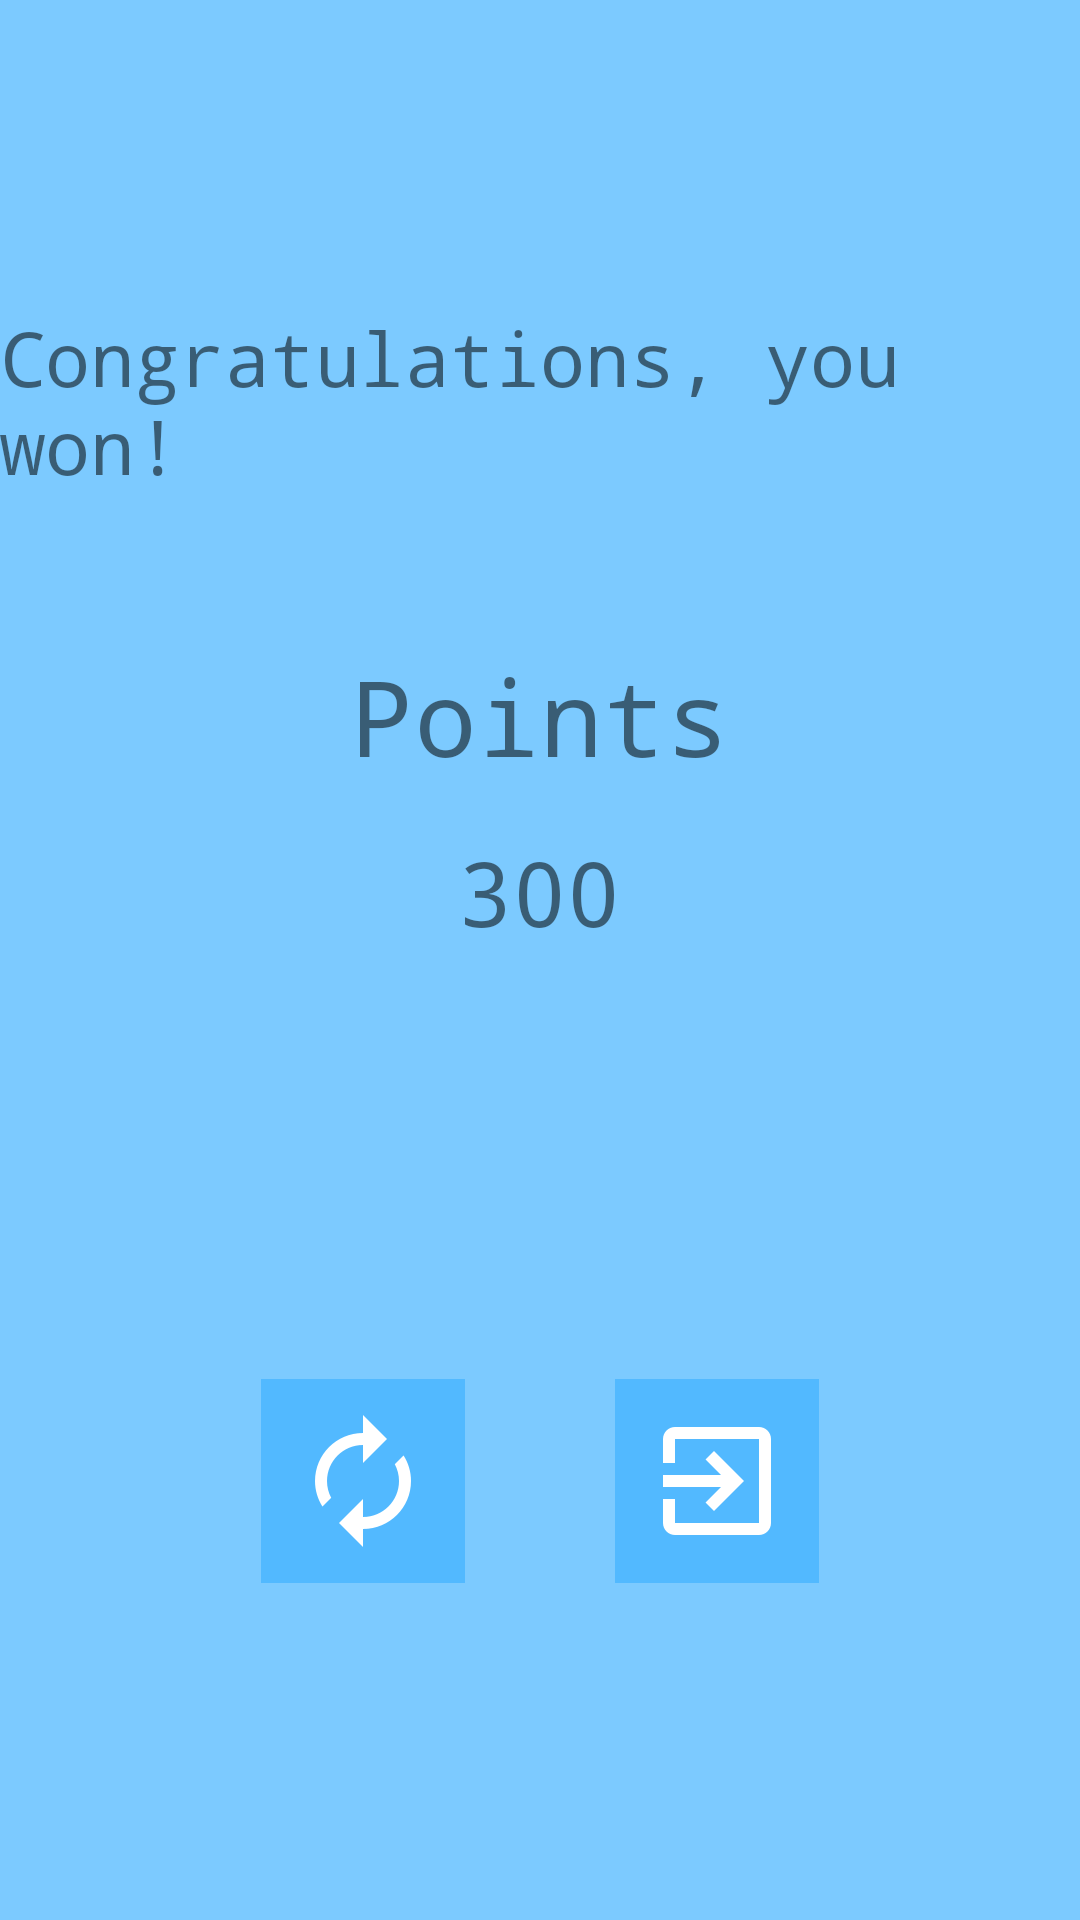

Icons on this 1080*1920 Android screen, each with its box as rect(x1, y1, x2, y2):
Exit: rect(615, 1379, 819, 1583)
Restart: rect(261, 1379, 465, 1583)
